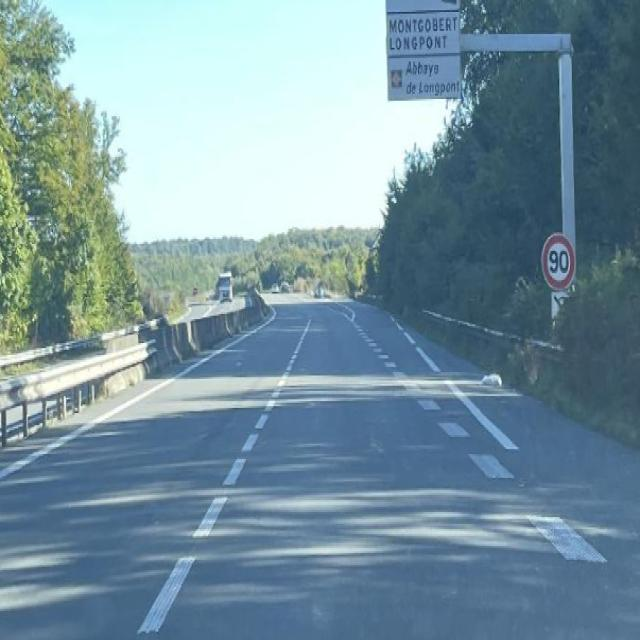speed_90: (542, 234, 576, 291)
